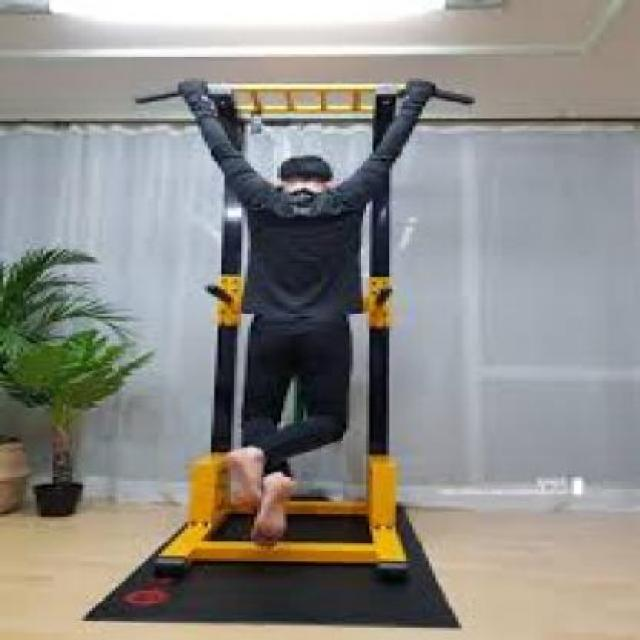chinning dipping: (135, 76, 474, 584)
